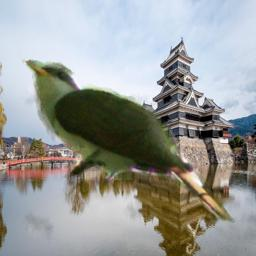Cuckoo: (20, 59, 235, 223)
